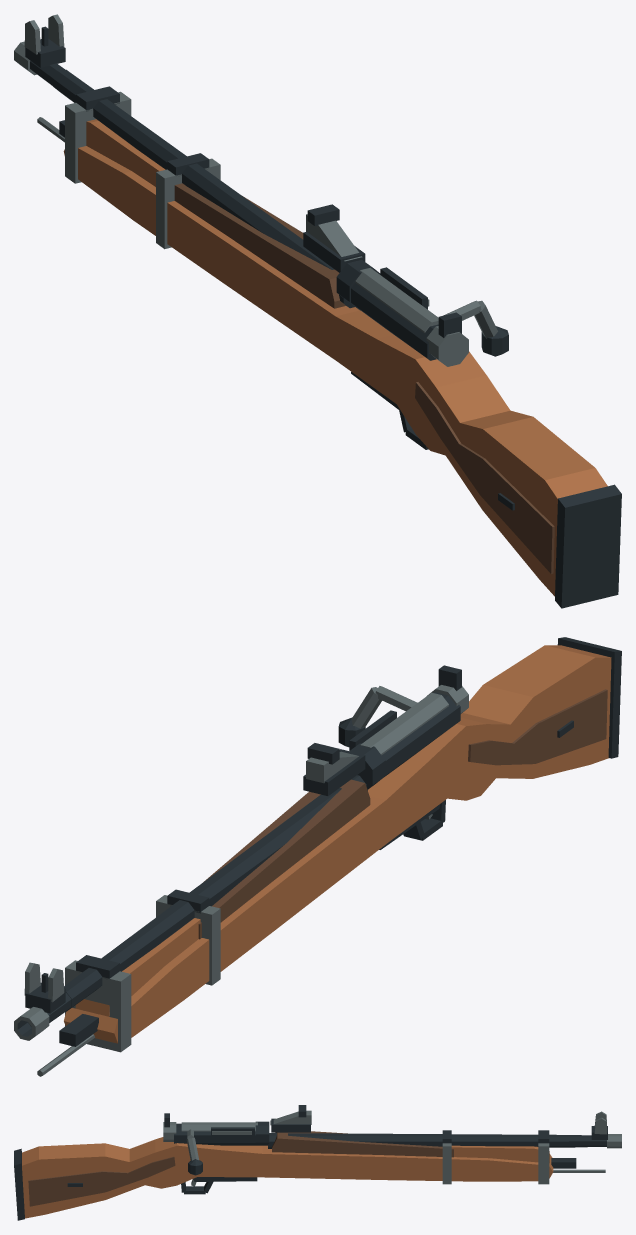
File: kar98k.glb
3 renders of one model, top to bottom at view 1: azimuth 30°, elevation 25°; view 2: azimuth 150°, elevation 25°; view 3: azimuth 270°, elevation 25°, orthographic. The views are drawn at different scales.
Visible parts, largest first — view 1: Wood_stock_0, Butt_plate_3, Barrel_14, Stock_reverse_facet_2, Upper_wood_handguard_15, Fore_end_upper_facet_17, Receiver_4, Bolt_5, Stock_band_20, Stock_band_18, Bolt_shroud_9, Rear_sight_ramp_28 (+1 smaller); view 2: Wood_stock_0, Barrel_14, Upper_wood_handguard_15, Stock_reverse_facet_2, Fore_end_upper_facet_17, Stock_band_20, Receiver_4, Bolt_5, Butt_plate_3, Stock_band_18, Rear_sight_base_27, Bayonet_lug_26 (+6 smaller); view 3: Wood_stock_0, Barrel_14, Stock_cheek_facet_1, Upper_wood_handguard_15, Fore_end_upper_facet_17, Receiver_4, Butt_plate_3, Bolt_5, Stock_band_20, Stock_band_18, Rear_sight_ramp_28, Rear_sight_base_27 (+11 smaller).
Part boxes in pixels (x1,y1,x2,y2): Wood_stock_0: [63, 146, 607, 596]; Butt_plate_3: [555, 484, 621, 608]; Barrel_14: [53, 69, 354, 308]; Stock_reverse_facet_2: [415, 382, 554, 573]; Upper_wood_handguard_15: [174, 183, 345, 308]; Fore_end_upper_facet_17: [86, 119, 165, 186]; Receiver_4: [351, 283, 438, 360]; Bolt_5: [355, 267, 438, 333]; Stock_band_20: [65, 91, 131, 183]; Stock_band_18: [156, 158, 220, 249]; Bolt_shroud_9: [426, 326, 468, 366]; Rear_sight_ramp_28: [306, 214, 362, 261]; Wood_stock_0: [64, 645, 611, 1043]; Barrel_14: [64, 775, 367, 1011]; Upper_wood_handguard_15: [198, 779, 370, 939]; Stock_reverse_facet_2: [468, 689, 607, 765]; Fore_end_upper_facet_17: [75, 918, 200, 1016]; Stock_band_20: [65, 960, 131, 1052]; Receiver_4: [382, 692, 460, 776]; Bolt_5: [360, 692, 448, 755]; Butt_plate_3: [557, 637, 621, 758]; Stock_band_18: [156, 895, 220, 985]; Rear_sight_base_27: [303, 749, 365, 795]; Bayonet_lug_26: [59, 1014, 98, 1046]; Wood_stock_0: [22, 1137, 553, 1218]; Barrel_14: [268, 1133, 581, 1148]; Stock_cheek_facet_1: [28, 1156, 175, 1206]; Upper_wood_handguard_15: [272, 1131, 453, 1157]; Fore_end_upper_facet_17: [451, 1145, 549, 1163]; Receiver_4: [174, 1123, 255, 1145]; Butt_plate_3: [14, 1148, 24, 1220]; Bolt_5: [181, 1122, 257, 1131]; Stock_band_20: [538, 1143, 549, 1184]; Stock_band_18: [442, 1143, 451, 1184]; Rear_sight_ramp_28: [270, 1110, 311, 1125]; Rear_sight_base_27: [271, 1118, 310, 1132].
Bounding box in the file's own units: 0.1471 × 0.2415 × 1.27.
